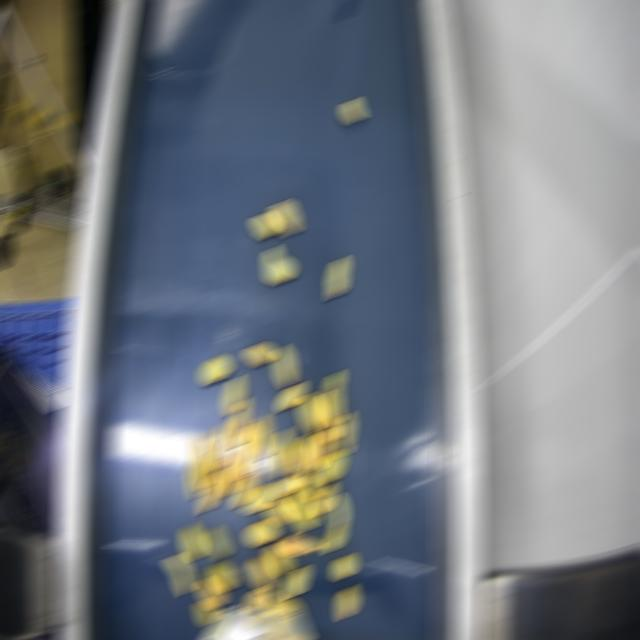Baby Potato: (233, 423, 258, 480), (285, 488, 316, 531), (324, 496, 345, 551), (192, 432, 213, 487), (261, 591, 300, 618), (208, 421, 229, 470), (166, 553, 191, 594), (199, 471, 224, 512), (265, 247, 292, 283), (243, 482, 274, 513), (271, 200, 298, 235), (318, 392, 337, 441), (248, 554, 273, 591), (206, 561, 235, 592), (300, 393, 323, 432), (233, 472, 258, 507), (229, 400, 248, 446), (279, 533, 320, 554), (198, 576, 225, 607), (272, 428, 289, 477), (326, 371, 341, 426), (297, 431, 316, 474), (200, 355, 229, 383), (266, 543, 291, 575), (205, 527, 230, 559), (311, 431, 330, 472), (328, 256, 347, 297), (274, 345, 293, 386), (183, 523, 204, 560), (319, 452, 344, 483), (246, 520, 277, 545), (220, 455, 239, 495), (223, 375, 242, 414), (335, 413, 352, 456), (253, 415, 270, 458), (275, 473, 304, 498), (284, 568, 307, 598), (266, 499, 293, 524), (313, 485, 334, 516), (337, 585, 356, 618), (283, 441, 302, 474), (252, 213, 277, 238), (278, 384, 303, 409), (188, 456, 203, 497), (246, 343, 273, 365), (299, 472, 320, 500), (243, 586, 266, 611), (196, 599, 217, 624), (333, 555, 354, 578), (343, 99, 362, 122)
